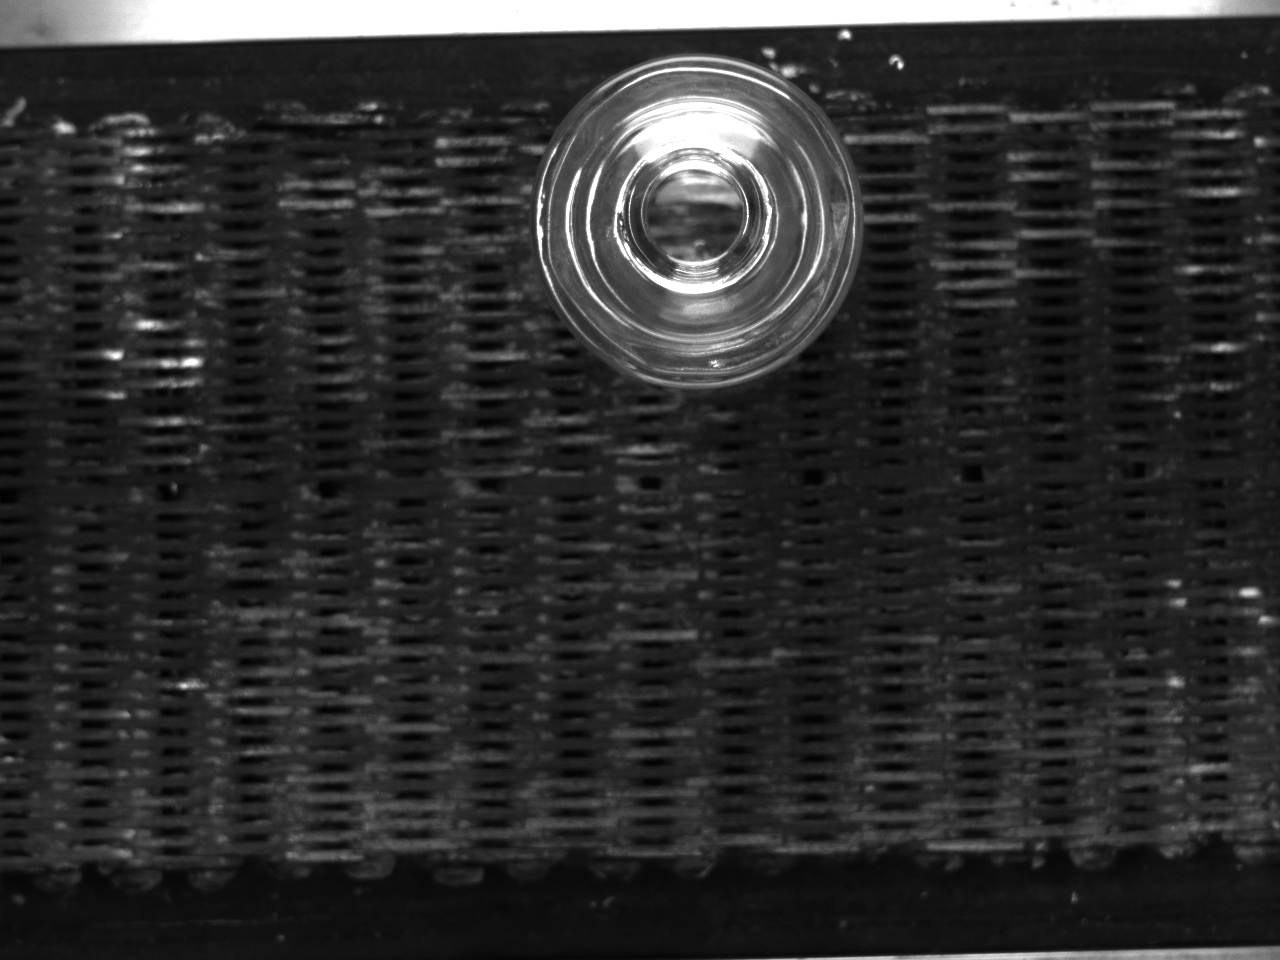bottleneck: (616, 140, 779, 295)
